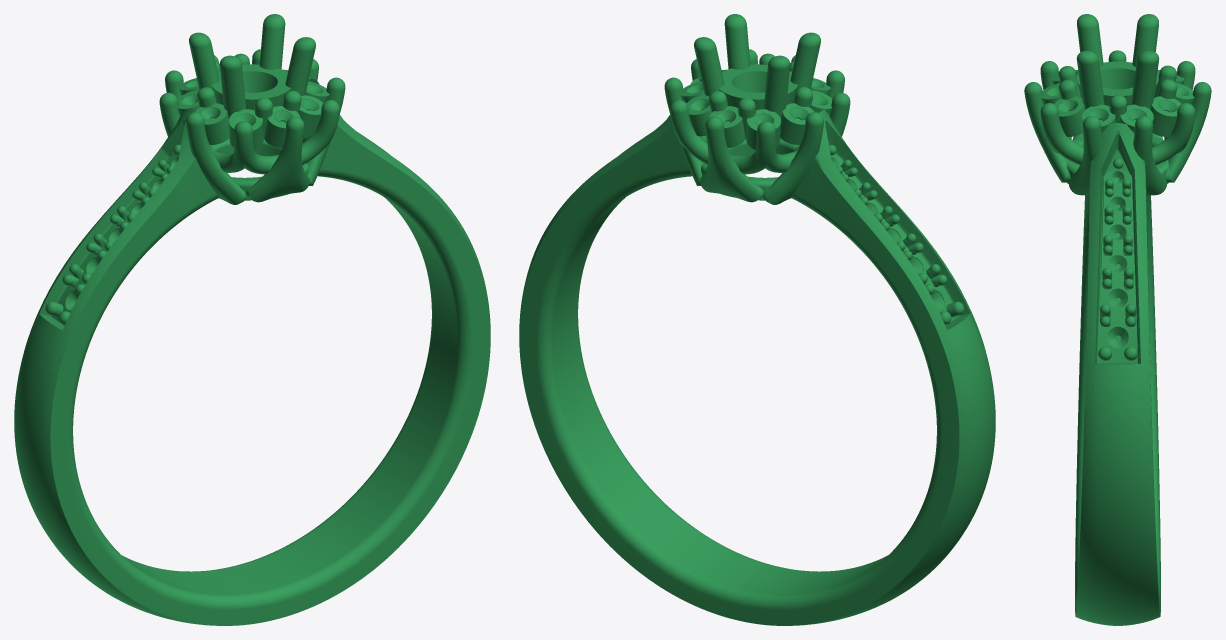
File: ring_17.gltf
3 renders of one model, left to right at view 1: azimuth 30°, elevation 25°; view 2: azimuth 150°, elevation 25°; view 3: azimuth 270°, elevation 25°, orthographic.
Size of the model in its own units: 20.2 by 24.24 by 7.25.
